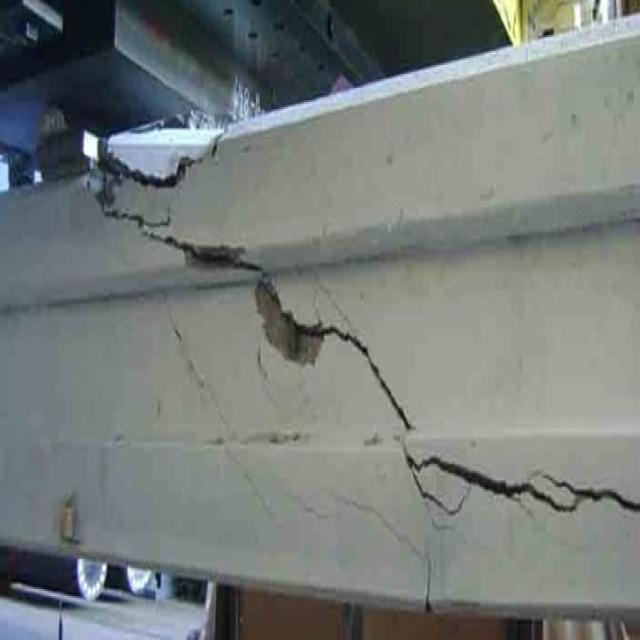Wall_Cracks: (65, 88, 640, 620)
